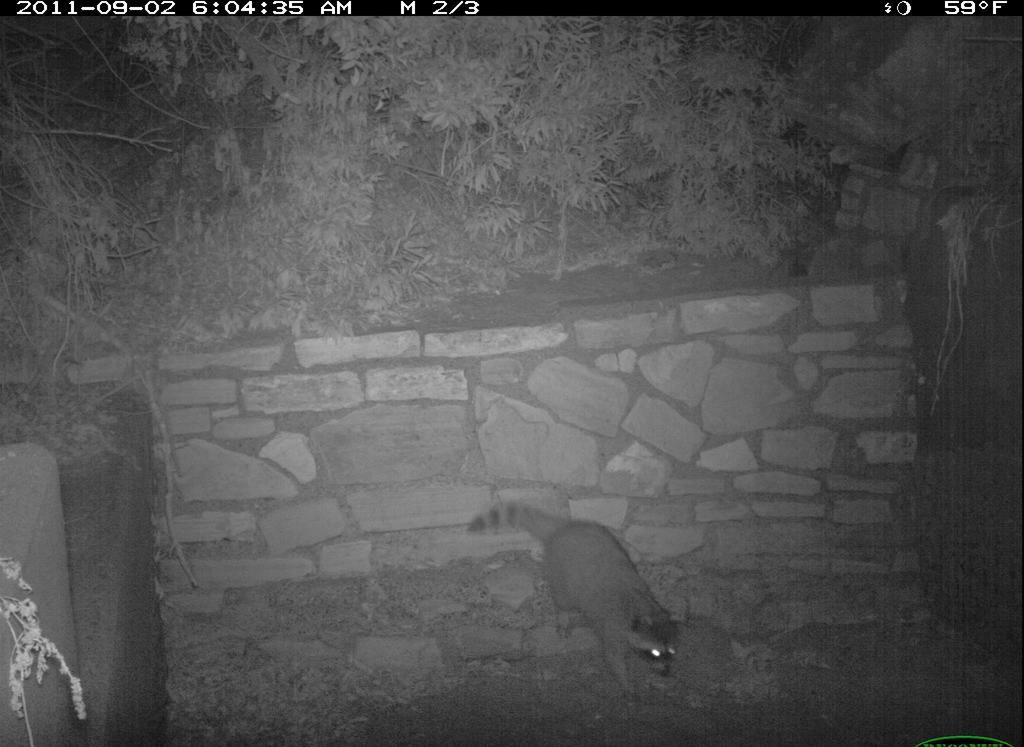raccoon: (469, 491, 689, 702)
